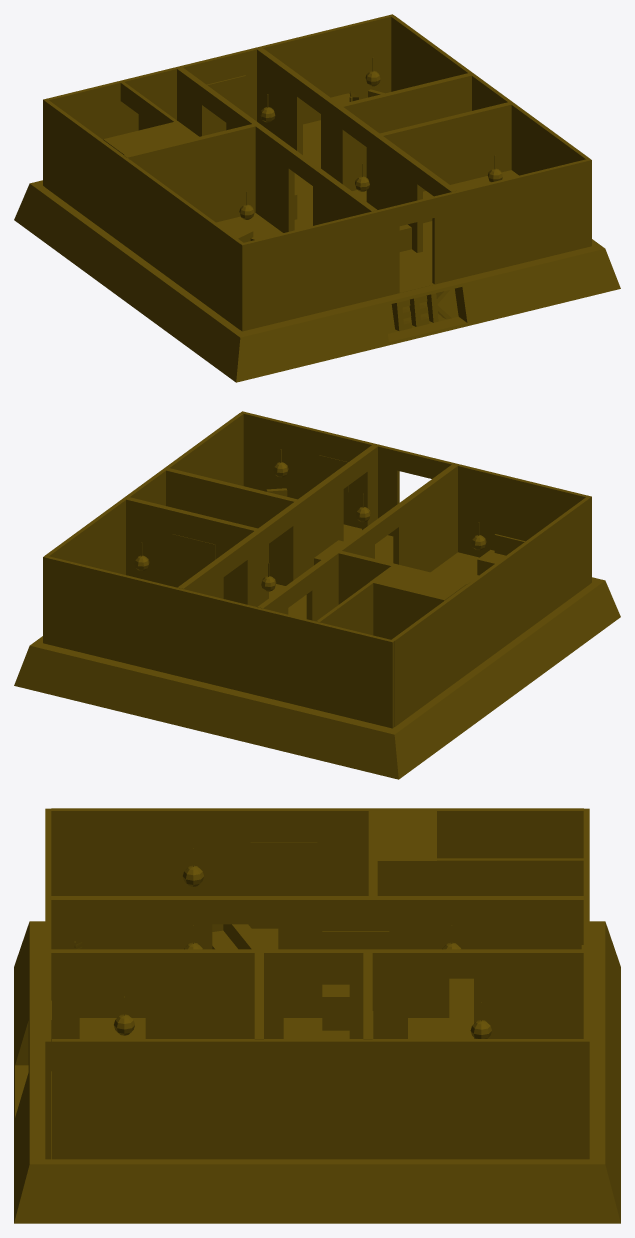
Rendered from EEK TALo2.fbx.
The picture shows the model from 3 angles, top to bottom: view 1: azimuth 30°, elevation 25°; view 2: azimuth 150°, elevation 25°; view 3: azimuth 270°, elevation 25°; orthographic projection. The views are drawn at different scales.
Visible parts, largest first — view 1: Cube; view 2: Cube; view 3: Cube.
Boxes of the visible parts, x1,y1,x2,y2 form: Cube: [14, 14, 620, 382]; Cube: [14, 411, 620, 779]; Cube: [14, 808, 620, 1223].
Bounding box in the file's own units: 924 × 287 × 924.
